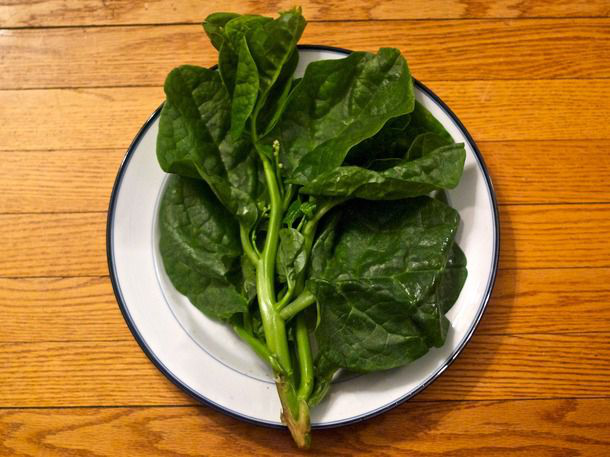Bayam: (150, 34, 492, 418)
